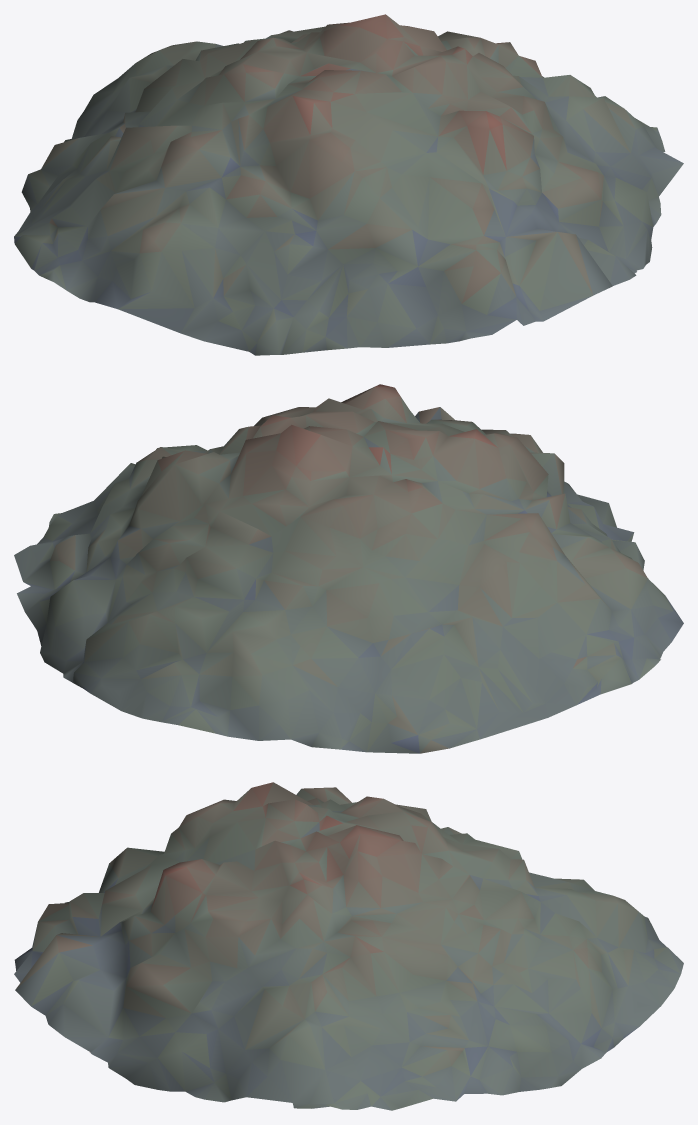
Rendered from rock_clump_small_01.fbx.
The picture shows the model from 3 angles, top to bottom: view 1: azimuth 30°, elevation 25°; view 2: azimuth 150°, elevation 25°; view 3: azimuth 270°, elevation 25°; orthographic projection. The views are drawn at different scales.
Parts seen in each view (by area): view 1: Mesh (2); view 2: Mesh (2); view 3: Mesh (2).
Boxes of the visible parts, x1,y1,x2,y2 form: Mesh (2): (14,14,683,355); Mesh (2): (14,384,683,753); Mesh (2): (14,782,683,1110).
Size of the model in its own units: 562 by 174 by 566.
